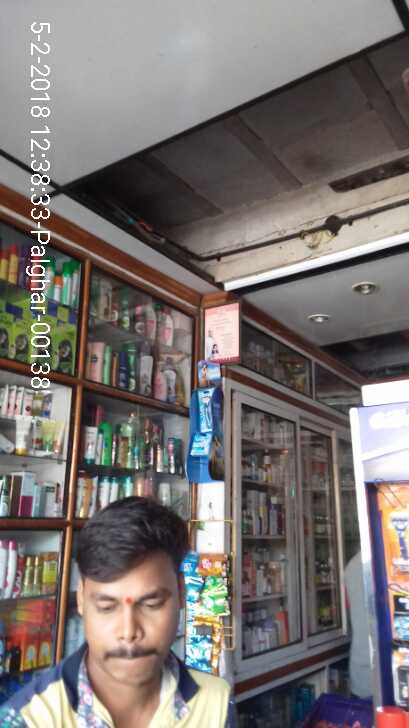venus: (195, 388, 212, 432), (190, 436, 208, 454)
